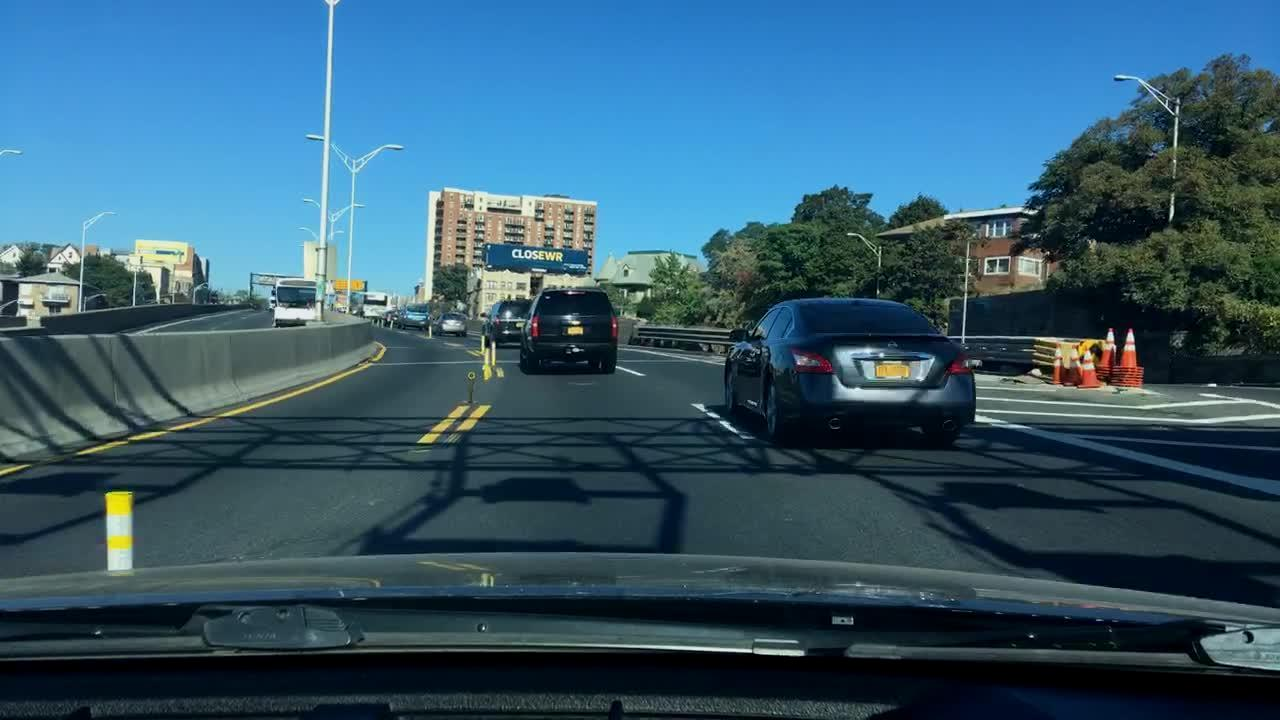chevrolet: (565, 317, 584, 327)
